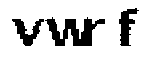f: (116, 4, 143, 49)
r: (86, 13, 110, 48)
v: (7, 17, 45, 50)
w: (47, 17, 86, 48)
